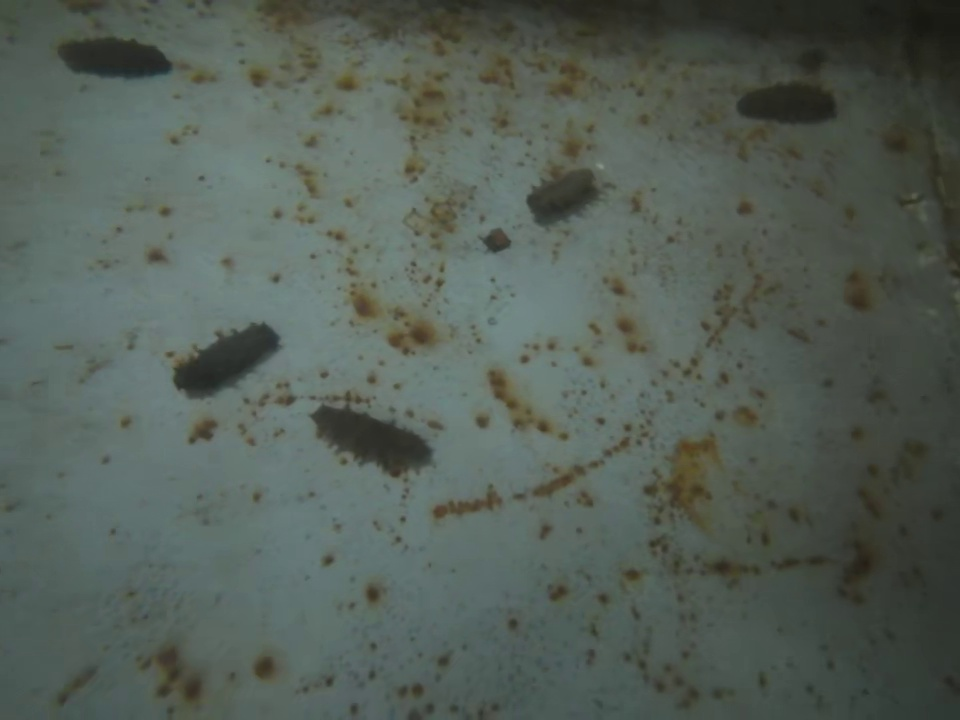seacucumber: (171, 320, 285, 396), (309, 401, 431, 472), (54, 35, 176, 77), (736, 78, 838, 125), (523, 162, 598, 217)
